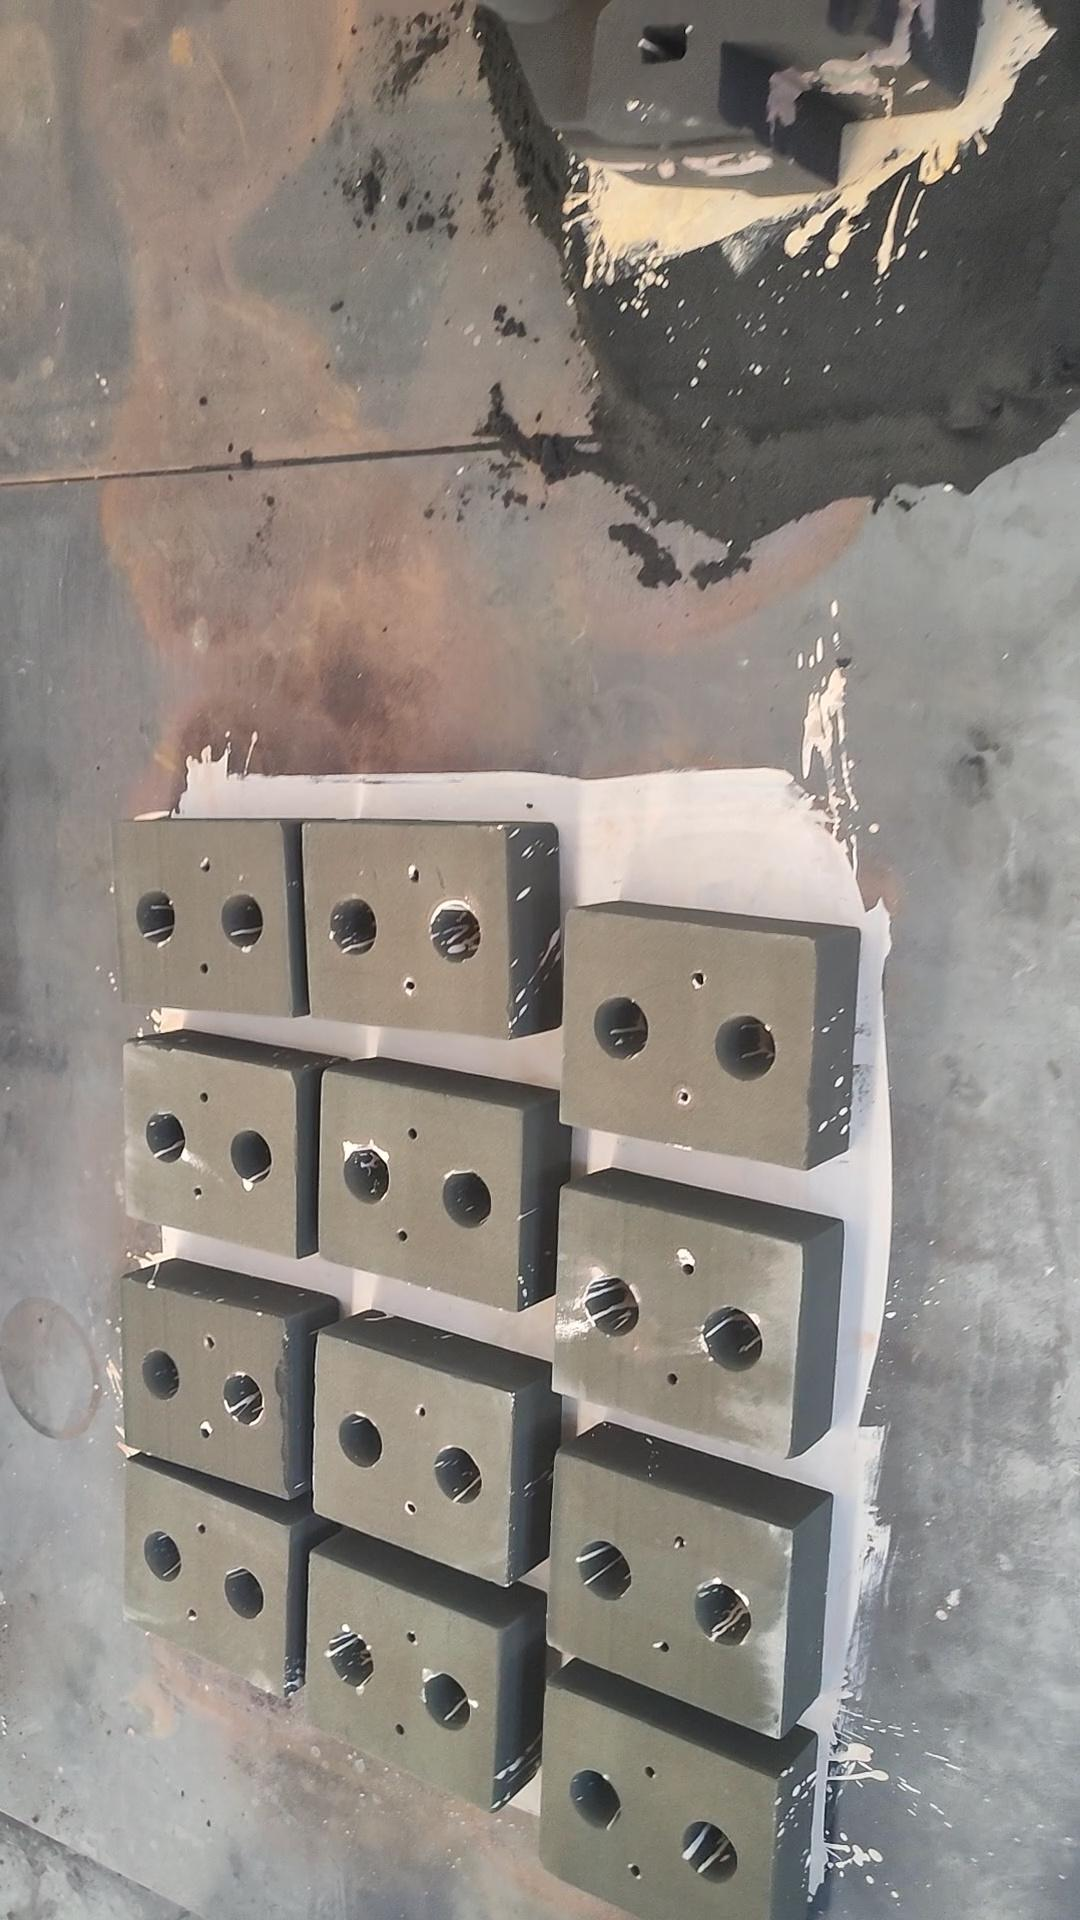pouring hole: (715, 1014, 775, 1081), (703, 1305, 764, 1371), (583, 1271, 640, 1337), (695, 1578, 752, 1644), (682, 1821, 738, 1882), (593, 997, 649, 1059), (430, 899, 483, 963), (579, 1540, 632, 1600), (571, 1768, 621, 1829), (423, 1671, 471, 1731), (330, 895, 377, 955), (342, 1147, 392, 1203), (442, 1171, 491, 1228), (435, 1447, 483, 1505), (328, 1630, 373, 1687), (222, 894, 266, 948), (338, 1414, 382, 1466), (231, 1129, 274, 1183), (222, 1371, 264, 1425), (223, 1567, 264, 1619), (145, 1112, 185, 1164), (135, 891, 175, 942), (144, 1531, 181, 1582), (141, 1349, 179, 1398)
